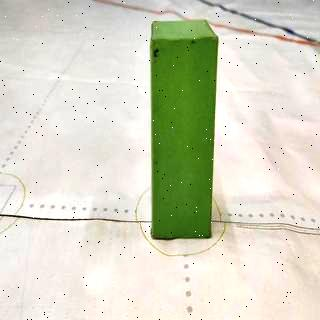greenbox: (148, 21, 220, 240)
